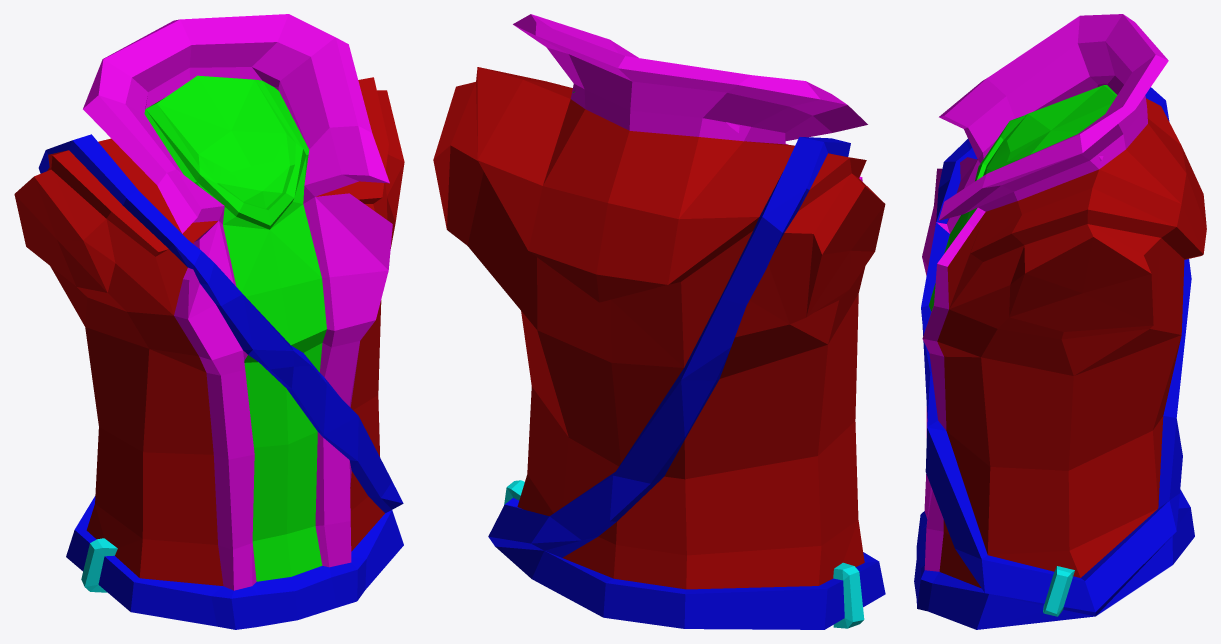
File: Chr_Torso_Male_Static_27.fbx
The picture shows the model from 3 angles, left to right: view 1: azimuth 30°, elevation 25°; view 2: azimuth 150°, elevation 25°; view 3: azimuth 270°, elevation 25°; orthographic projection. The views are drawn at different scales.
Visible parts, largest first — view 1: Chr_Torso_Male_27; view 2: Chr_Torso_Male_27; view 3: Chr_Torso_Male_27.
Part boxes in pixels (bbox=[...]): Chr_Torso_Male_27: bbox=[14, 14, 404, 629]; Chr_Torso_Male_27: bbox=[433, 14, 885, 629]; Chr_Torso_Male_27: bbox=[914, 14, 1206, 629].
Size of the model in its own units: 50.2 by 70.43 by 35.2.
